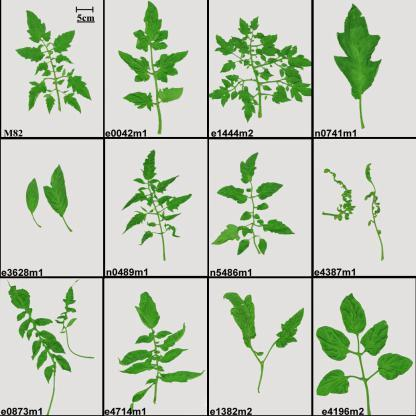Tomato leaf bacterial spot: (324, 4, 388, 101), (134, 2, 166, 53), (116, 50, 150, 83), (153, 47, 188, 79), (152, 88, 190, 108), (139, 146, 161, 180), (239, 146, 256, 187), (251, 182, 287, 200)
